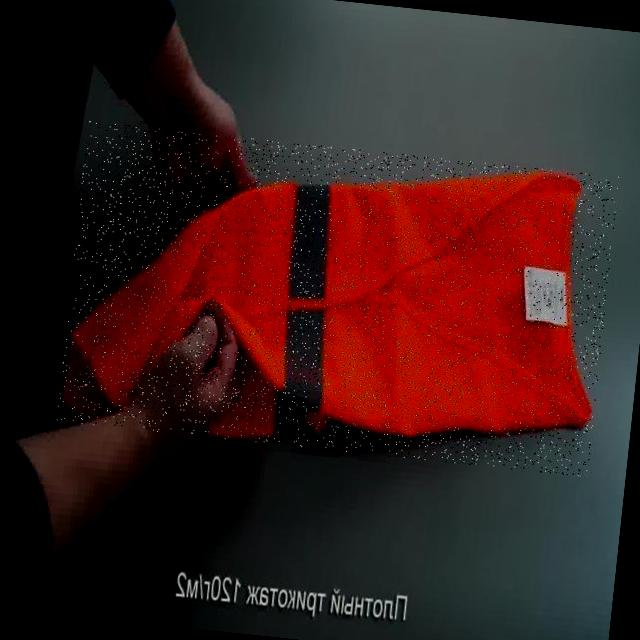no-gloves: (27, 271, 268, 546), (80, 8, 298, 239)
vest: (56, 120, 619, 477)
